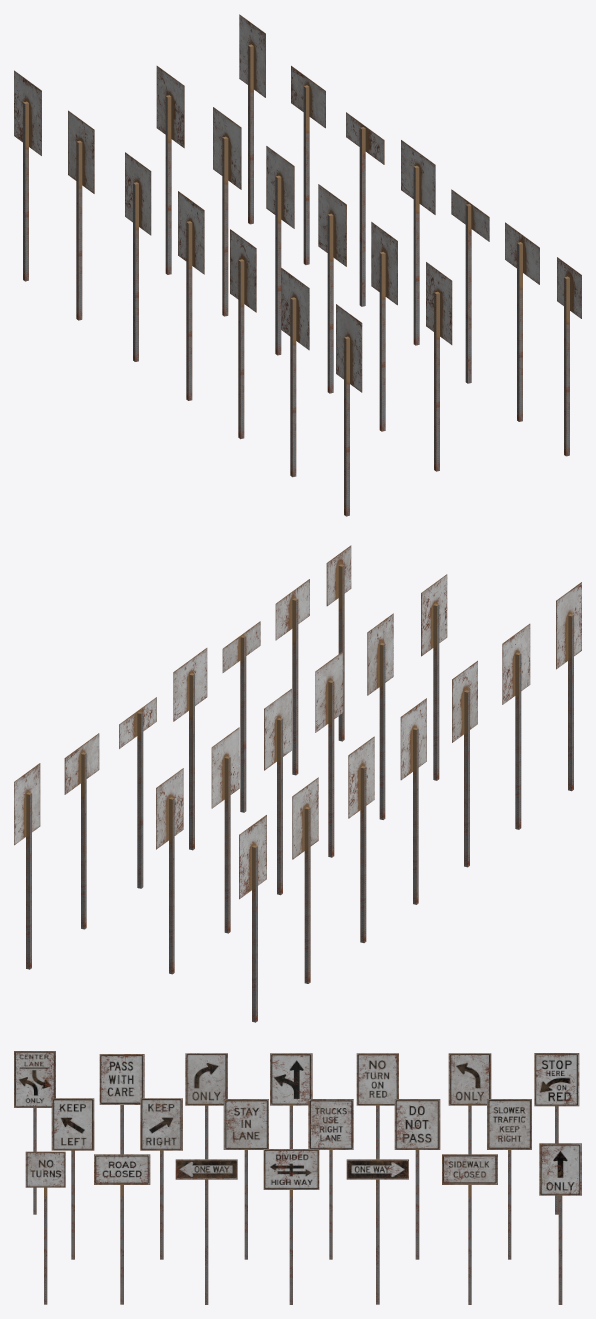
File: regulation_signs_set.glb
3 renders of one model, top to bottom at view 1: azimuth 30°, elevation 25°; view 2: azimuth 150°, elevation 25°; view 3: azimuth 270°, elevation 25°, orthographic. The views are drawn at different scales.
Parts seen in each view (by area): view 1: pCube99 (×2), pCube135, pCube144, pCube139, pCube140, pCube128, pCube126, pCube141, pCube143, pCube129, pCube132, pCube136 (+27 smaller); view 2: pCube99 (×2), pCube139, pCube140, pCube128, pCube126, pCube141, pCube144, pCube132, pCube130, pCube142, pCube143, pCube136 (+27 smaller); view 3: pCube99 (×2), pCube141, pCube140, pCube139, pCube126, pCube135, pCube142, pCube128, pCube136, pCube144, pCube132, pCube143 (+20 smaller).
Boxes of the visible parts, x1=… form: pCube99 (×2): x1=336, y1=127, x2=365, y2=392; pCube135: x1=266, y1=146, x2=294, y2=228; pCube144: x1=156, y1=66, x2=184, y2=148; pCube139: x1=318, y1=184, x2=346, y2=266; pCube140: x1=213, y1=107, x2=241, y2=189; pCube128: x1=281, y1=268, x2=309, y2=350; pCube126: x1=401, y1=140, x2=435, y2=214; pCube141: x1=14, y1=70, x2=41, y2=155; pCube143: x1=371, y1=221, x2=397, y2=305; pCube129: x1=230, y1=229, x2=256, y2=312; pCube132: x1=239, y1=14, x2=265, y2=97; pCube136: x1=68, y1=110, x2=94, y2=193; pCube99 (×2): x1=137, y1=582, x2=581, y2=888; pCube139: x1=315, y1=651, x2=343, y2=732; pCube140: x1=211, y1=727, x2=239, y2=808; pCube128: x1=502, y1=623, x2=530, y2=704; pCube126: x1=173, y1=648, x2=207, y2=721; pCube141: x1=239, y1=815, x2=266, y2=899; pCube144: x1=156, y1=768, x2=183, y2=849; pCube132: x1=14, y1=763, x2=40, y2=845; pCube130: x1=348, y1=736, x2=374, y2=818; pCube142: x1=421, y1=574, x2=447, y2=656; pCube143: x1=367, y1=613, x2=393, y2=695; pCube136: x1=292, y1=777, x2=318, y2=859; pCube99 (×2): x1=14, y1=1051, x2=379, y2=1304; pCube141: x1=534, y1=1053, x2=579, y2=1106; pCube140: x1=394, y1=1099, x2=440, y2=1149; pCube139: x1=223, y1=1099, x2=268, y2=1149; pCube126: x1=263, y1=1149, x2=319, y2=1189; pCube135: x1=308, y1=1099, x2=353, y2=1149; pCube142: x1=51, y1=1098, x2=94, y2=1150; pCube128: x1=99, y1=1054, x2=144, y2=1104; pCube136: x1=448, y1=1053, x2=491, y2=1105; pCube144: x1=487, y1=1099, x2=531, y2=1149; pCube132: x1=539, y1=1143, x2=581, y2=1195; pCube143: x1=140, y1=1098, x2=182, y2=1150.
Size of the model in its own units: 20.36 by 16.95 by 53.32.
1 material, 1 textured.
